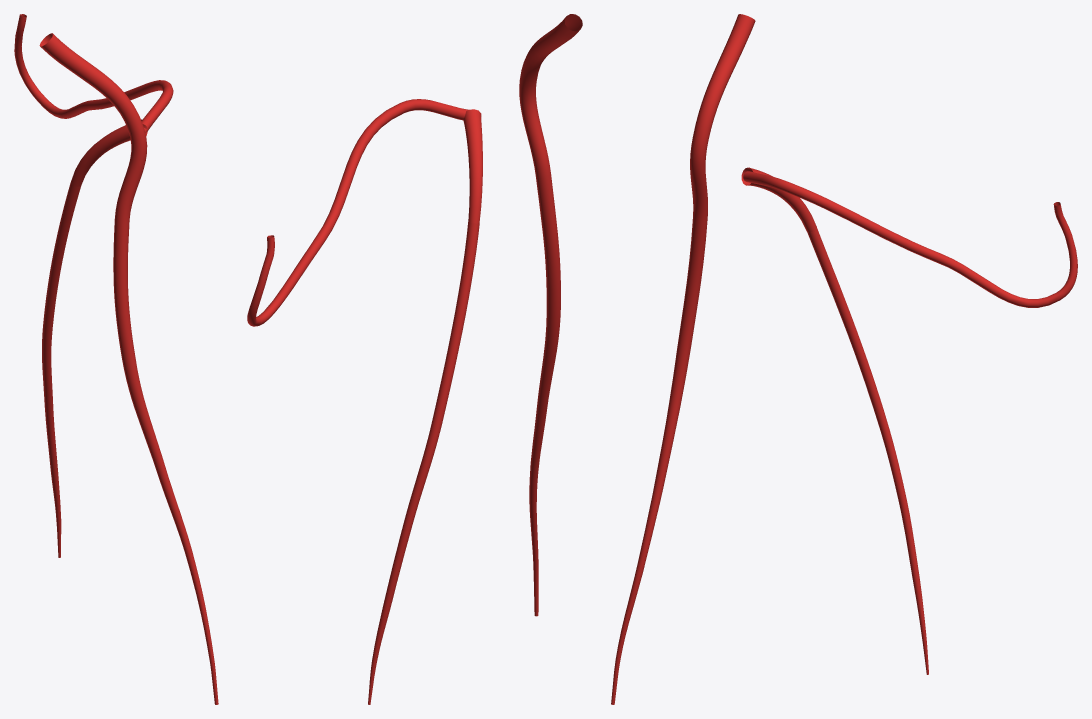
Rendered from circulatorio-subscapular-vein-l.glb.
3 renders of one model, left to right at view 1: azimuth 30°, elevation 25°; view 2: azimuth 150°, elevation 25°; view 3: azimuth 270°, elevation 25°, orthographic. The views are drawn at different scales.
Visible parts, largest first — view 1: Thoracodorsal vein.l, Subscapular vein.l, Circumflex scapular vein.l; view 2: Thoracodorsal vein.l, Subscapular vein.l, Circumflex scapular vein.l; view 3: Thoracodorsal vein.l, Subscapular vein.l, Circumflex scapular vein.l.
Part boxes in pixels (x1,y1,x2,y2): Thoracodorsal vein.l: (39,33,218,704); Subscapular vein.l: (42,119,147,557); Circumflex scapular vein.l: (14,14,173,132); Thoracodorsal vein.l: (519,14,582,616); Subscapular vein.l: (368,109,482,704); Circumflex scapular vein.l: (247,99,468,326); Thoracodorsal vein.l: (611,14,755,704); Subscapular vein.l: (741,167,928,674); Circumflex scapular vein.l: (743,171,1077,307).
Size of the model in its own units: 0.0308 by 0.1149 by 0.0757.
